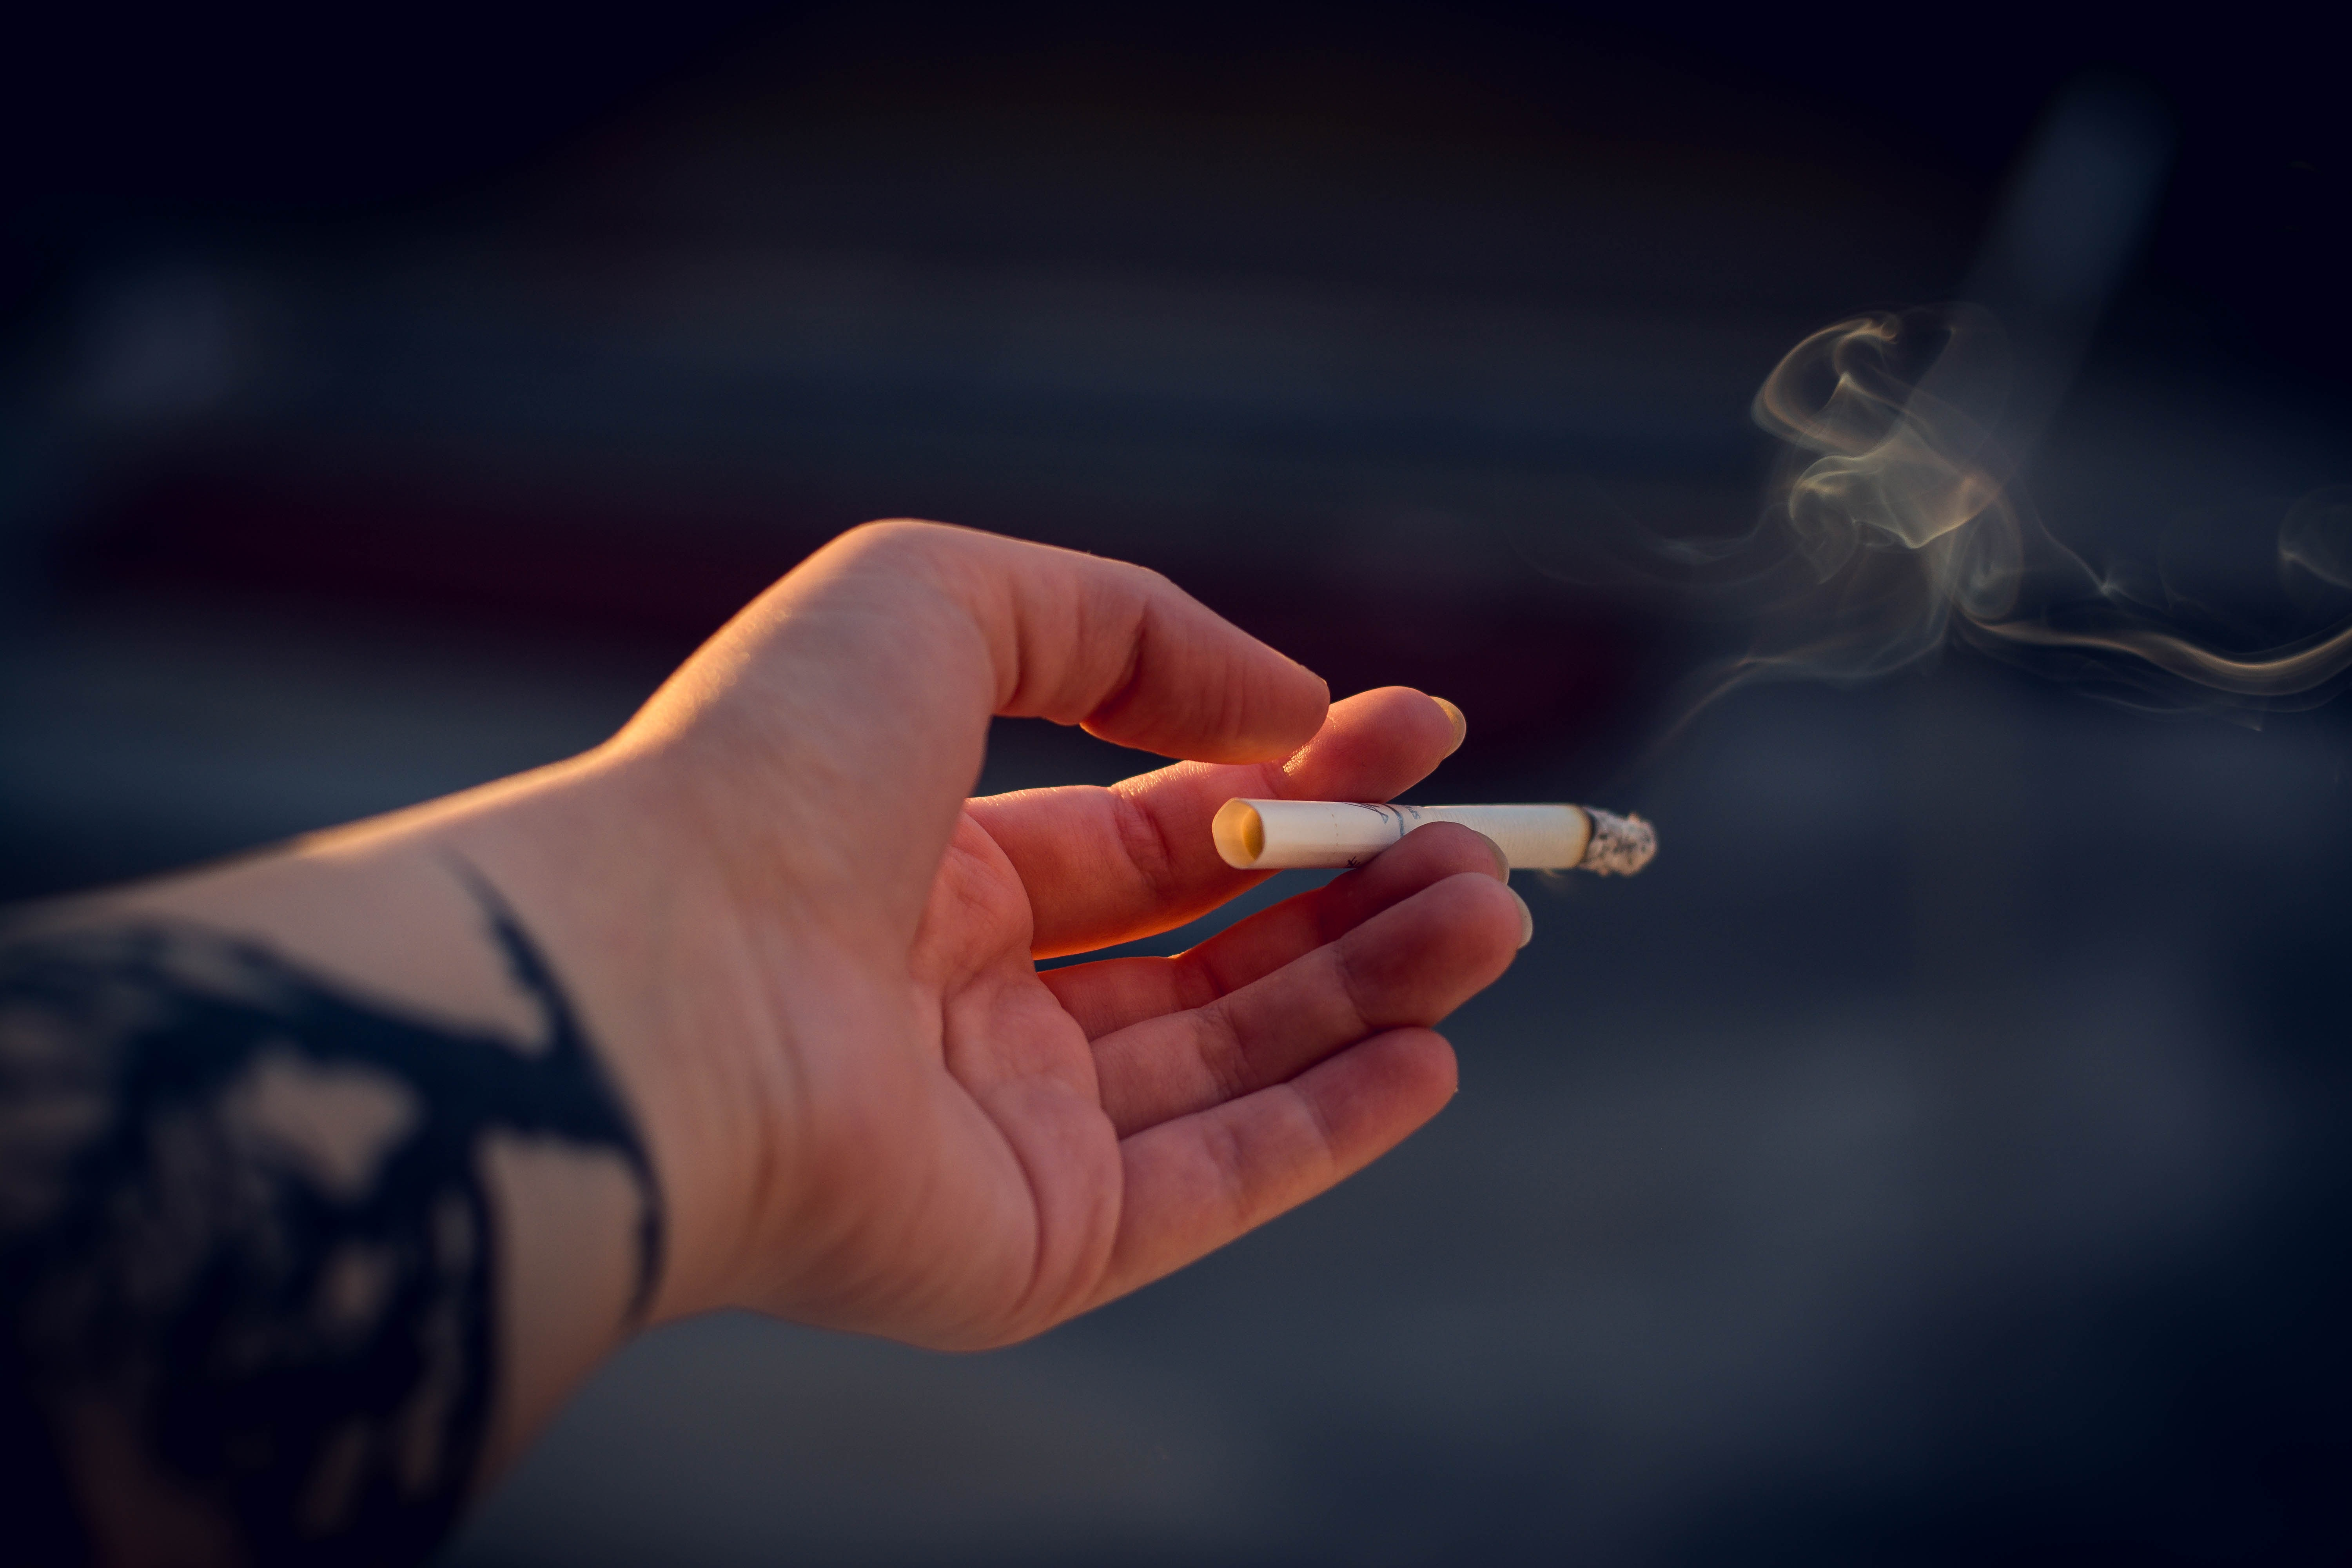cigarette: (1204, 788, 1664, 886)
